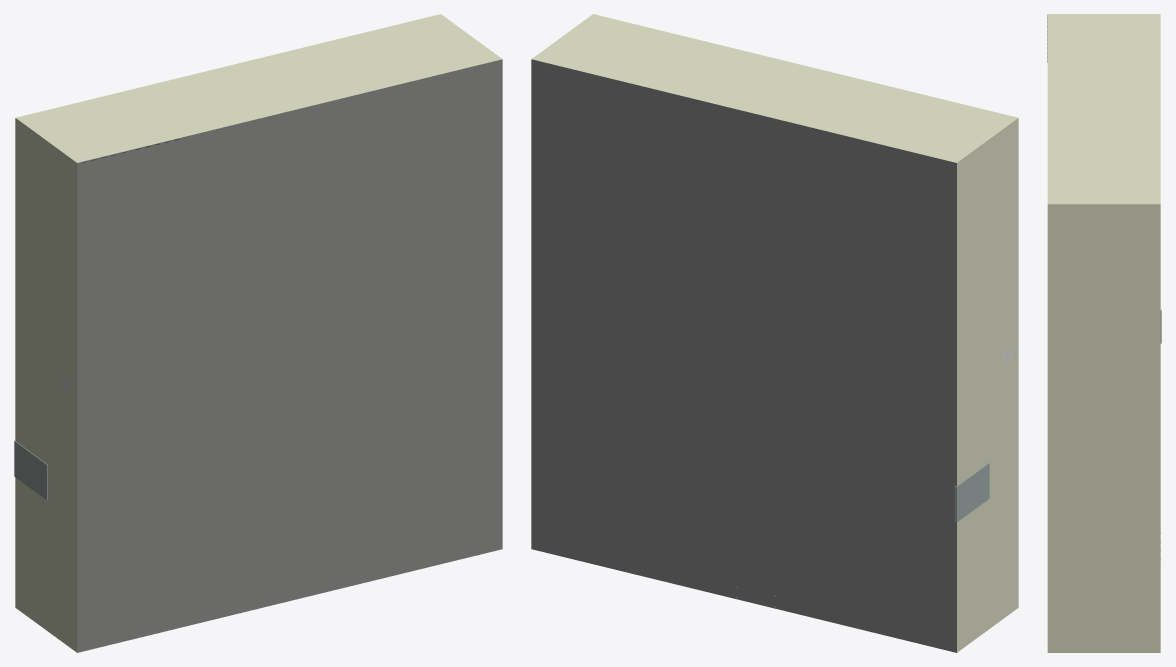
File: Laboratory 1.fbx
3 views of the same model, side by side, from view 1: azimuth 30°, elevation 25°; view 2: azimuth 150°, elevation 25°; view 3: azimuth 270°, elevation 25° (orthographic). The views are drawn at different scales.
Parts seen in each view (by area): view 1: Куб, Door; view 2: Куб, Door; view 3: Куб.
Boxes of the visible parts, x1,y1,x2,y2 form: Куб: (15,14,502,652); Door: (14,440,47,500); Куб: (531,14,1018,652); Door: (954,462,989,522); Куб: (1047,14,1160,652).
Bounding box in the file's own units: 17.16 × 18.85 × 4.35.
